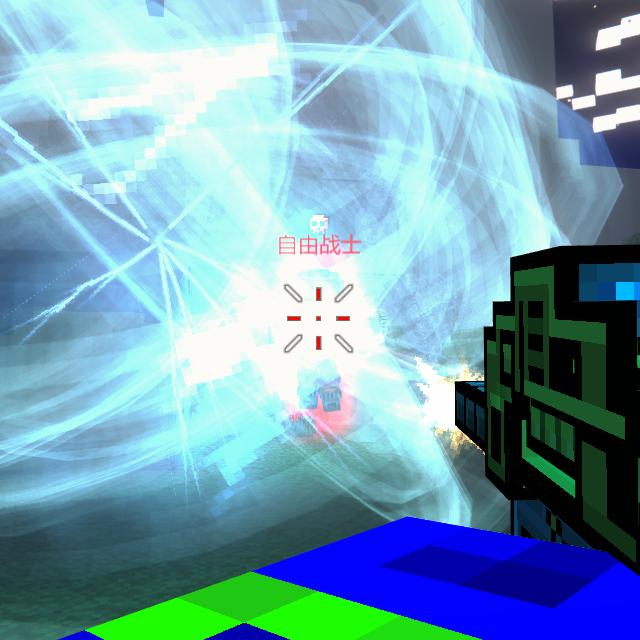Enemy: (298, 268, 345, 412)
